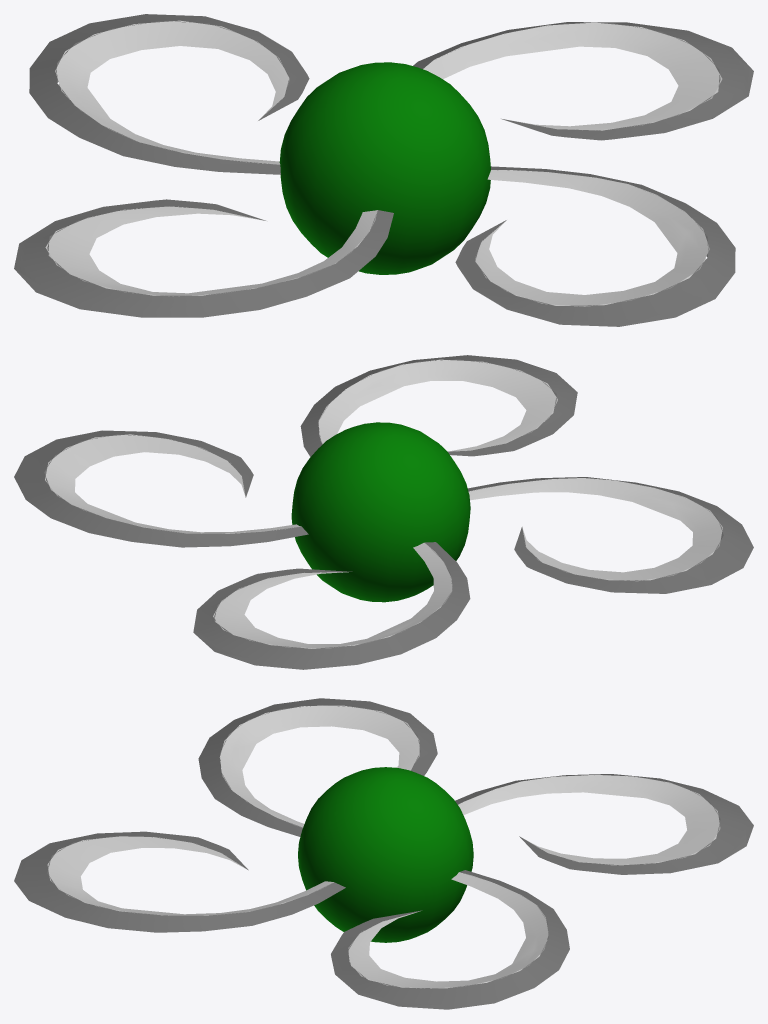
Rendered from Weapon_BallBend.fbx.
3 views of the same model, one above another, from view 1: azimuth 30°, elevation 25°; view 2: azimuth 150°, elevation 25°; view 3: azimuth 270°, elevation 25° (orthographic). The views are drawn at different scales.
Parts seen in each view (by area): view 1: nurbsToPoly7; view 2: nurbsToPoly7; view 3: nurbsToPoly7.
Part boxes in pixels (left/top/right/bottom): nurbsToPoly7: left=14, top=14, right=753, bottom=326; nurbsToPoly7: left=14, top=355, right=753, bottom=669; nurbsToPoly7: left=14, top=698, right=753, bottom=1009.
Bounding box in the file's own units: 8.38 × 2 × 8.41.
Materials: 1 (1 with a texture image).
